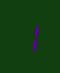one: (19, 19, 38, 53)
